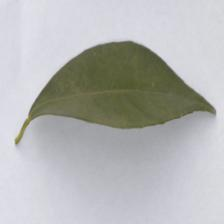healthy: (34, 38, 215, 138)
